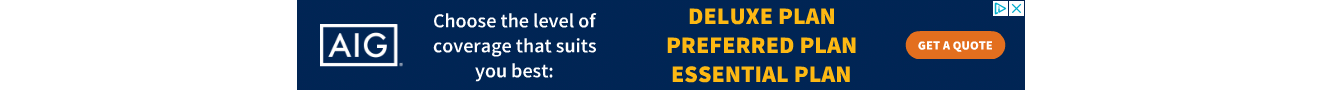fake_button: (900, 14, 1005, 74)
